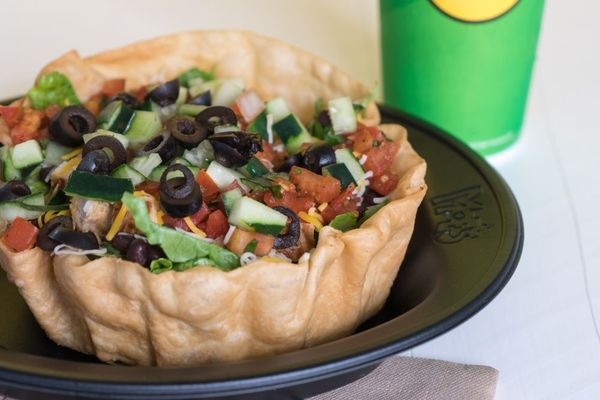pizza: (380, 0, 549, 157)
